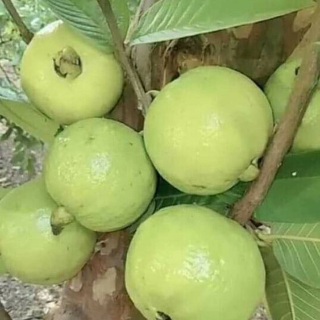oi: (145, 67, 275, 195), (45, 118, 155, 230)
